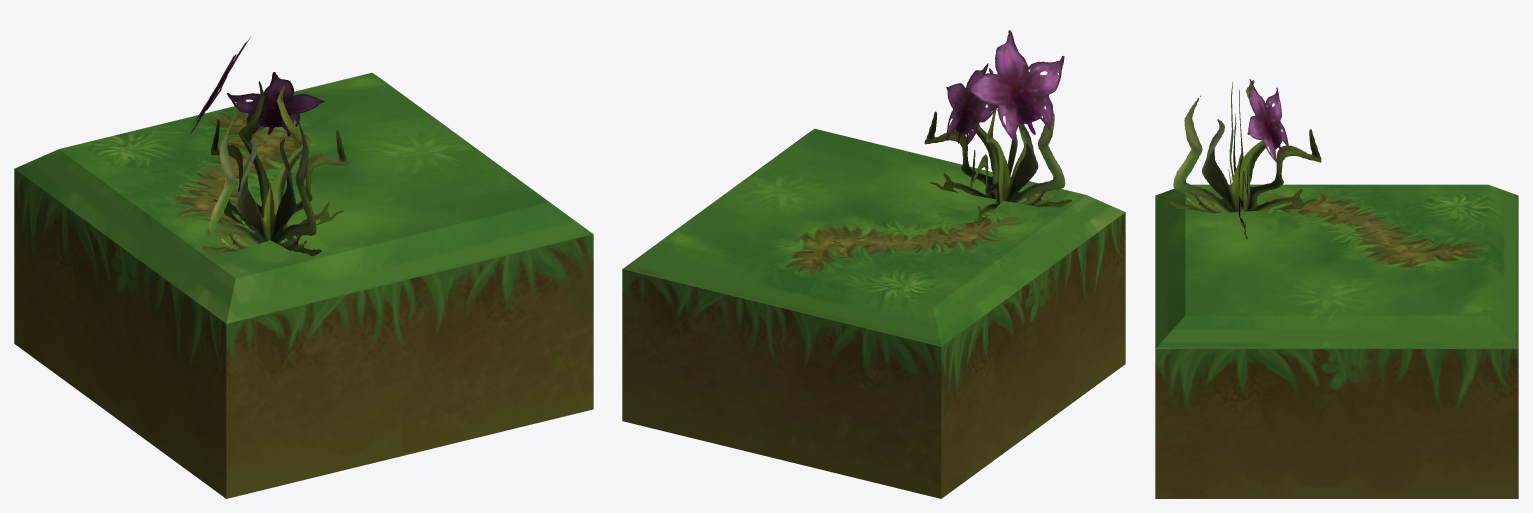
File: tile_final3.FBX
3 views of the same model, side by side, from view 1: azimuth 30°, elevation 25°; view 2: azimuth 150°, elevation 25°; view 3: azimuth 270°, elevation 25° (orthographic). The views are drawn at different scales.
Visible parts, largest first — view 1: Prefab7; view 2: Prefab7; view 3: Prefab7.
Part boxes in pixels (x1,y1,x2,y2): Prefab7: [14, 37, 593, 498]; Prefab7: [622, 30, 1125, 498]; Prefab7: [1155, 79, 1518, 498].
Size of the model in its own units: 25.29 by 26.91 by 25.02.
2 materials, 2 textured.
